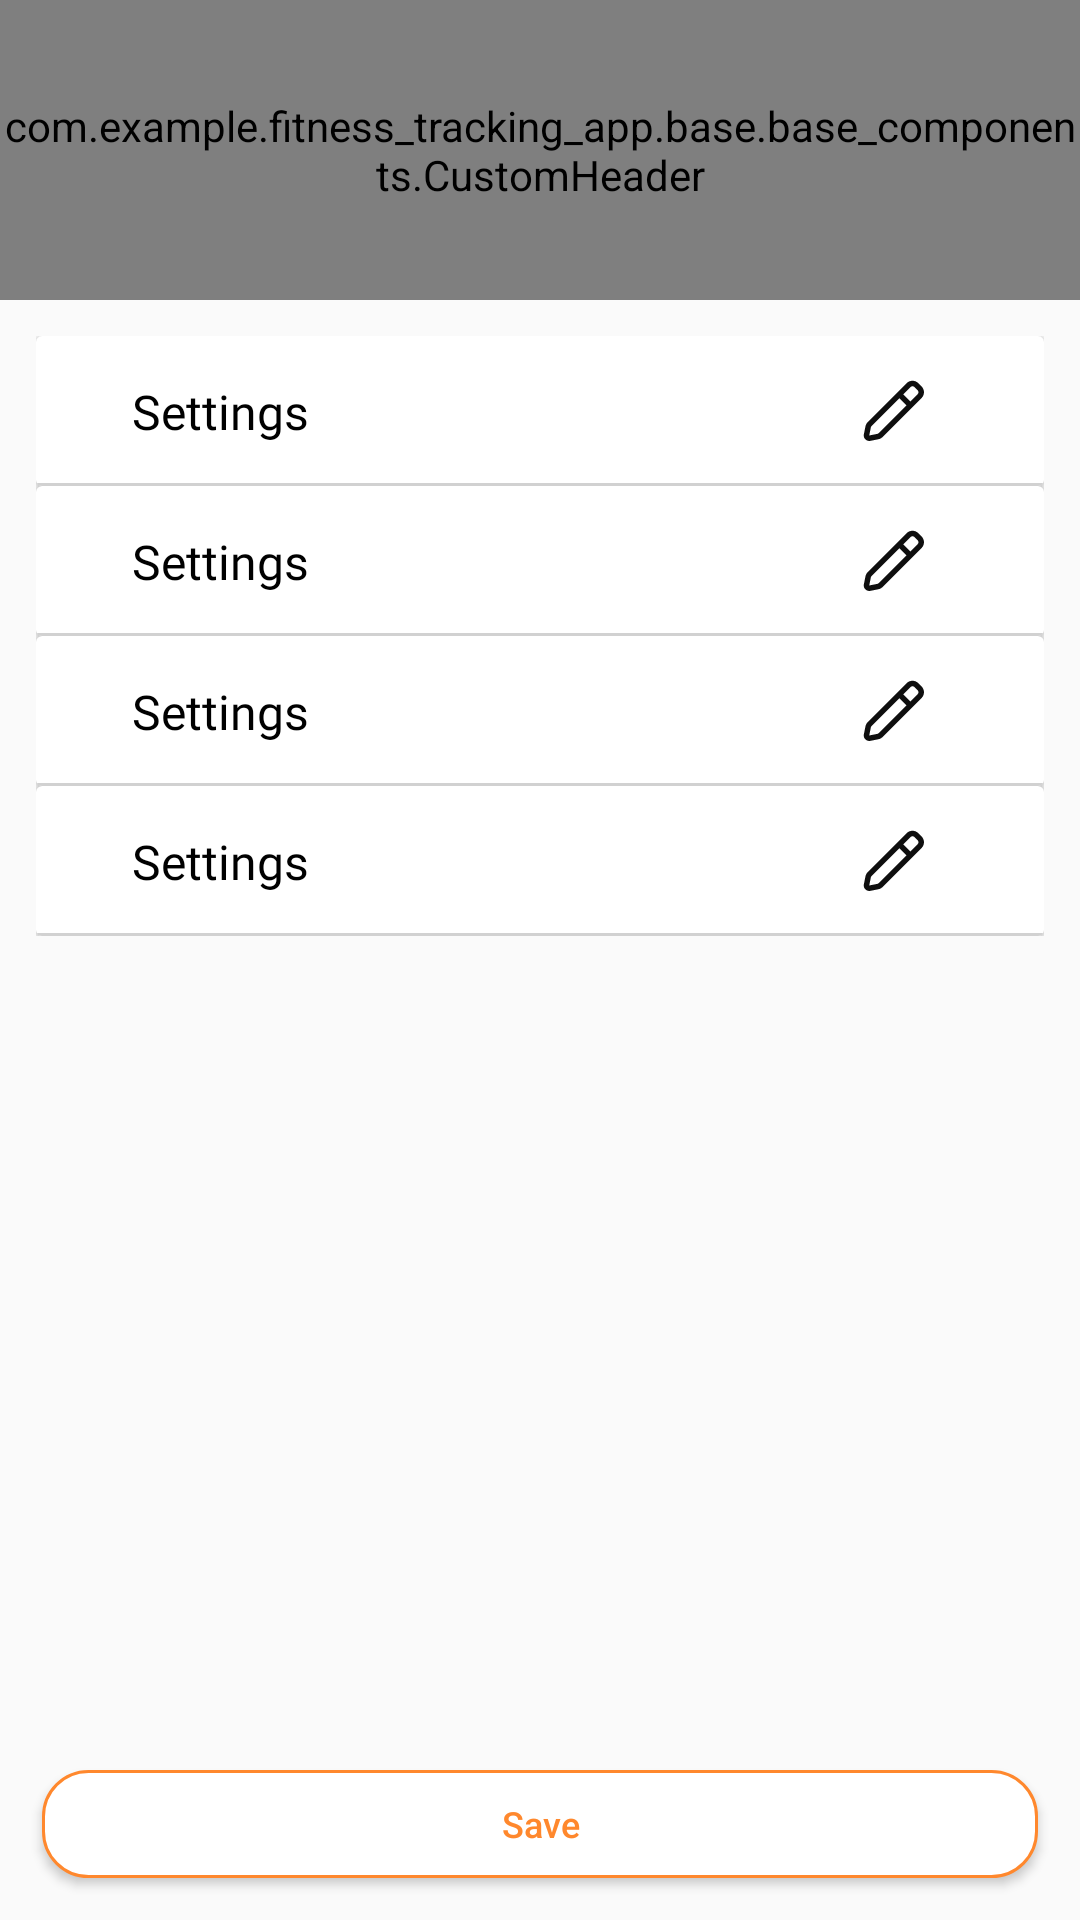

Named icons in this screenshot (1080w x 1920h) and their bounding boxes, (x1, y1, x2, y2):
edit: (863, 380, 924, 441), (863, 530, 924, 591), (863, 680, 924, 741), (863, 830, 924, 891)
